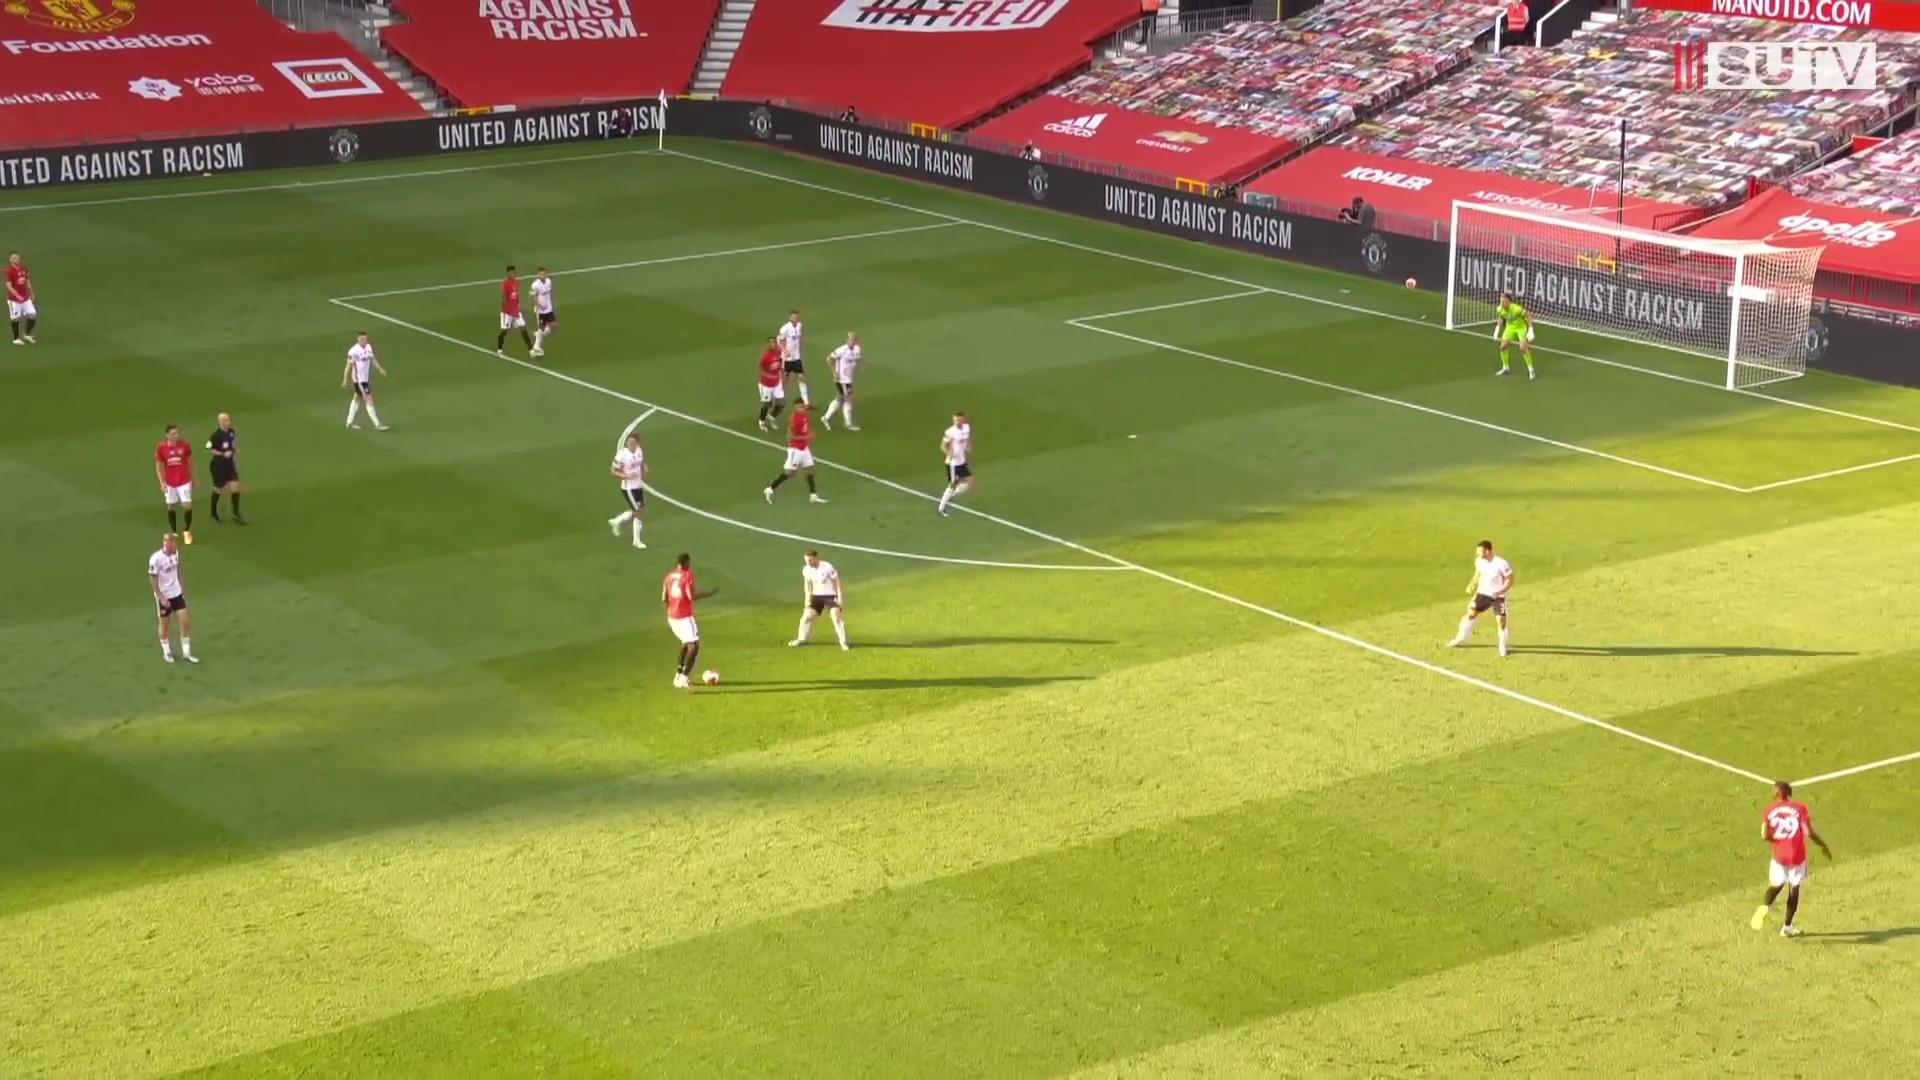ball: (700, 667, 723, 689), (1404, 273, 1420, 291)
goalkeeper: (1487, 290, 1541, 387)
player: (1747, 776, 1832, 942), (1441, 539, 1525, 663), (660, 551, 721, 694), (146, 530, 205, 674), (786, 547, 859, 659), (760, 396, 828, 510), (608, 428, 659, 552), (152, 419, 202, 544), (931, 405, 980, 522), (343, 328, 395, 436), (774, 306, 820, 422), (818, 328, 867, 436), (493, 264, 547, 362), (2, 249, 46, 354), (756, 331, 791, 433), (526, 266, 563, 359)
referee: (201, 407, 251, 530)
